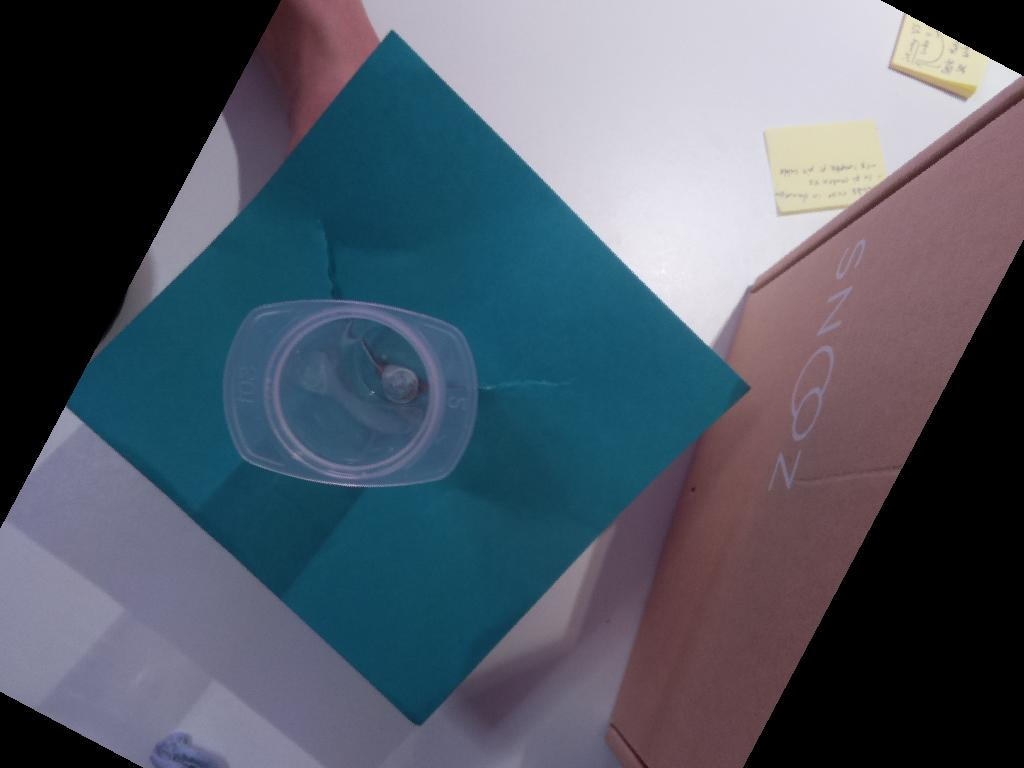clean: (220, 295, 481, 486)
